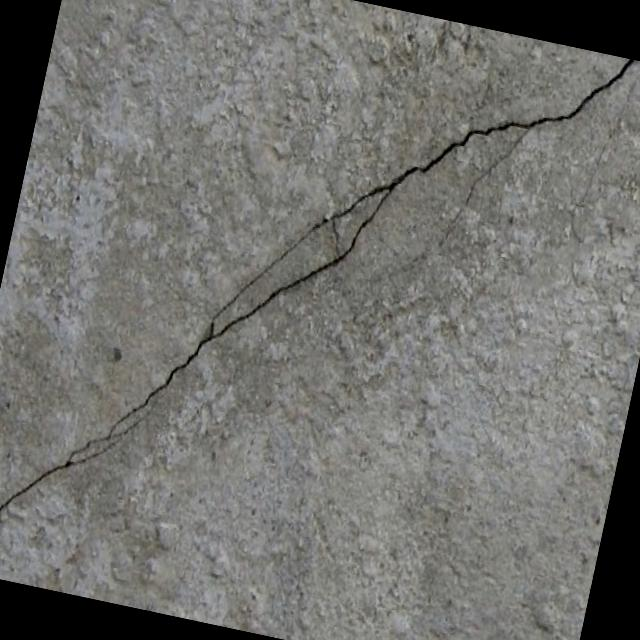crack: (264, 0, 640, 376), (0, 187, 278, 576)
